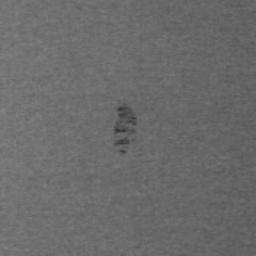Secondary rust skin: (113, 104, 137, 154)
